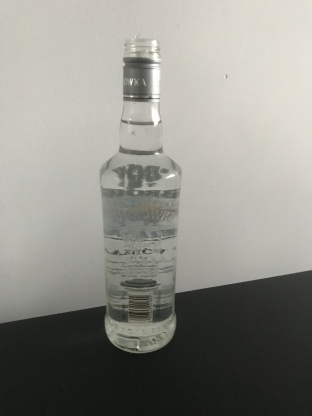nakretka: (120, 36, 162, 102)
